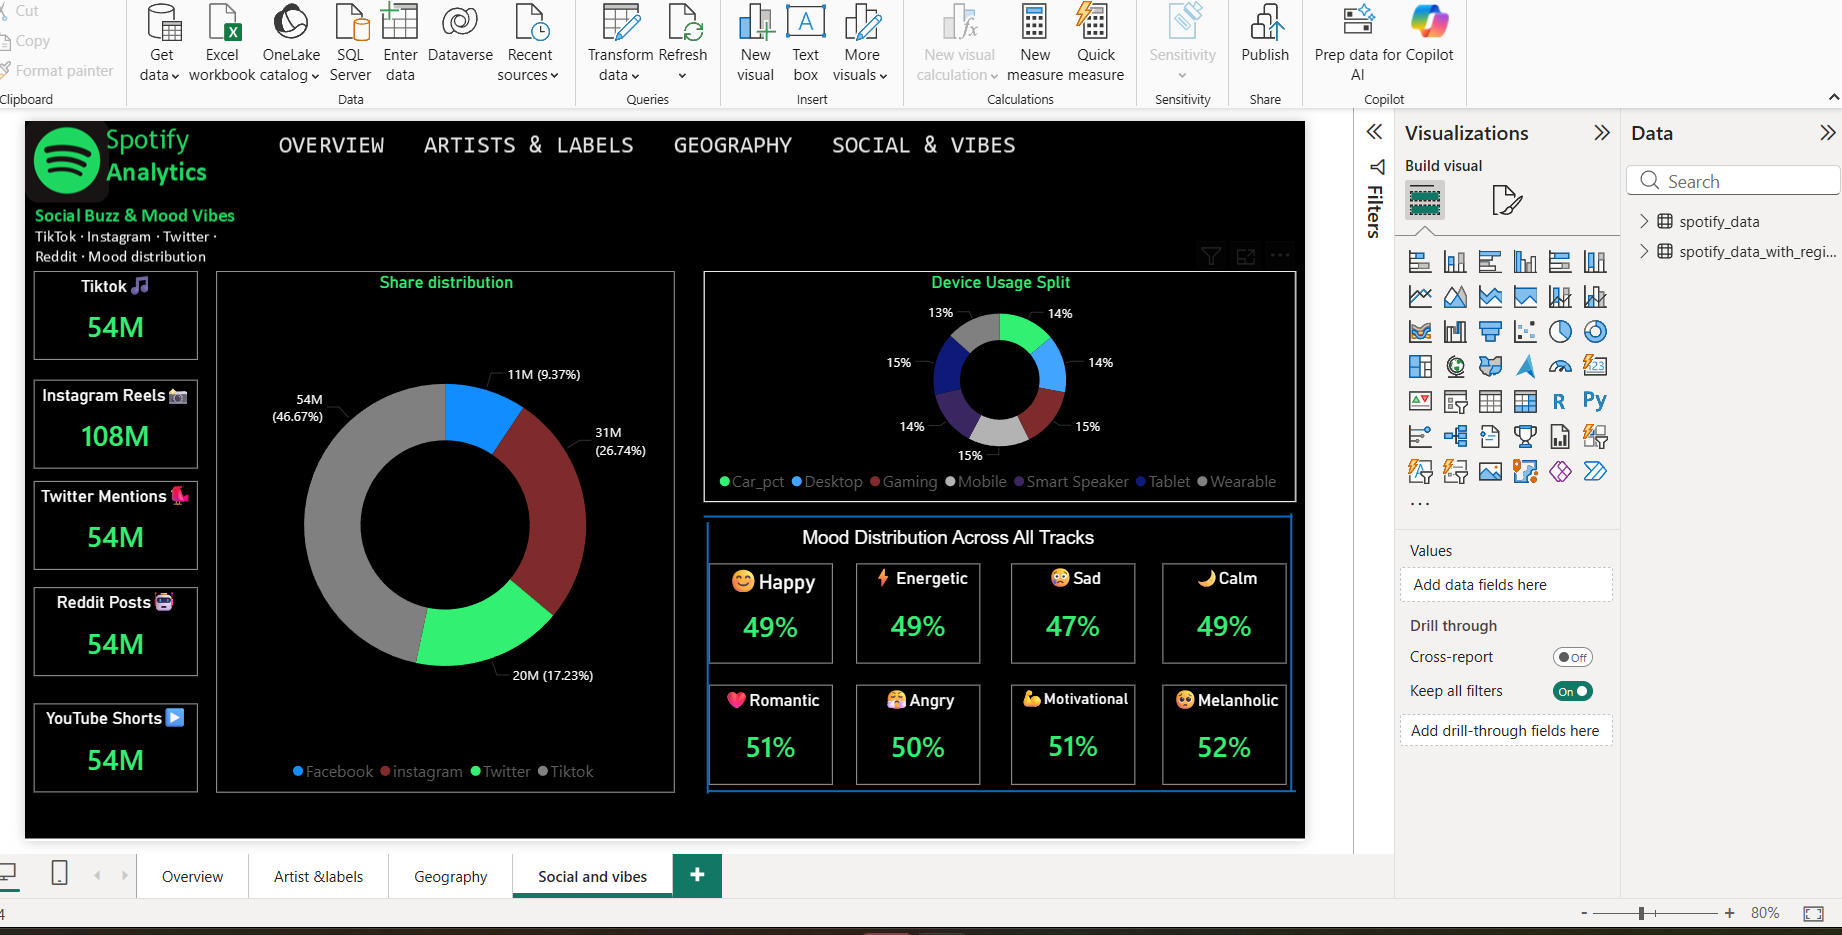

The dashboard page shown, as its layout file describes it:
{"tool":"powerbi","page":{"name":"Social and vibes","canvas":[1280,720],"ordinal":3},"visuals":[{"type":"actionButton","box":[395.2,9.6,218.2,39.8],"z":0},{"type":"actionButton","box":[639.5,9.6,133.1,41.2],"z":1000},{"type":"actionButton","box":[247,9.6,122.1,39.8],"z":2000},{"type":"actionButton","box":[794.5,9.6,222.3,39.8],"z":3000},{"type":"cardVisual","title":"Tiktok🎵","fields":{"Data":["Sum(spotify_data_with_regions.shares_tiktok)"]},"box":[8.6,150,164.3,88.6],"z":4000},{"type":"cardVisual","title":"Instagram Reels📸","fields":{"Data":["Sum(spotify_data.instagram_reels_count)"]},"box":[8.6,258.6,164.3,88.6],"z":5000},{"type":"cardVisual","title":"Twitter Mentions🐦","fields":{"Data":["Sum(spotify_data_with_regions.shares_tiktok)"]},"box":[8.6,360,164.3,88.6],"z":6000},{"type":"cardVisual","title":"Reddit Posts🤖","fields":{"Data":["Sum(spotify_data_with_regions.shares_tiktok)"]},"box":[8.6,465.7,164.3,88.6],"z":7000},{"type":"cardVisual","title":"YouTube Shorts▶️","fields":{"Data":["Sum(spotify_data_with_regions.shares_tiktok)"]},"box":[8.6,582.9,164.3,88.6],"z":8000},{"type":"cardVisual","title":"⚡Energetic","fields":{"Data":["Avg(spotify_data_with_regions.mood_energetic)"]},"box":[831.4,442.9,124.3,100],"z":9000},{"type":"cardVisual","title":"😊Happy","fields":{"Data":["Avg(spotify_data_with_regions.mood_happy)"]},"box":[684.3,442.9,124.3,100],"z":10000},{"type":"cardVisual","title":"😢Sad","fields":{"Data":["Avg(spotify_data_with_regions.mood_sad)"]},"box":[985.7,442.9,124.3,100],"z":11000},{"type":"shape","box":[682.9,664.3,588.6,12.9],"z":12000},{"type":"cardVisual","title":"🌙Calm","fields":{"Data":["Avg(spotify_data_with_regions.mood_calm)"]},"box":[1137.1,442.9,124.3,100],"z":13000},{"type":"cardVisual","title":"❤️Romantic","fields":{"Data":["Avg(spotify_data_with_regions.mood_romantic)"]},"box":[684.3,564.3,124.3,100],"z":14000},{"type":"cardVisual","title":"😤Angry","fields":{"Data":["Avg(spotify_data_with_regions.mood_angry)"]},"box":[831.4,564.3,124.3,100],"z":15000},{"type":"cardVisual","title":"💪Motivational","fields":{"Data":["Avg(spotify_data_with_regions.mood_motivational)"]},"box":[985.7,564.3,124.3,100],"z":16000},{"type":"cardVisual","title":"🥺Melanholic","fields":{"Data":["Avg(spotify_data_with_regions.mood_melancholic)"]},"box":[1137.1,564.3,124.3,100],"z":17000},{"type":"shape","box":[678.6,381.4,588.6,28.6],"z":18000},{"type":"shape","box":[605.7,401.4,152.9,271.4],"z":19000},{"type":"shape","box":[1261.4,392.9,10,278.6],"z":20000},{"type":"textbox","box":[772.9,401.4,347.1,41.4],"z":21000},{"type":"donutChart","title":"Device Usage Split","fields":{"Y":["Sum(spotify_data_with_regions.streams_device_car_pct)","Sum(spotify_data_with_regions.streams_device_desktop_pct)","Sum(spotify_data_with_regions.streams_device_gaming_pct)","Sum(spotify_data_with_regions.streams_device_mobile_pct)","Sum(spotify_data_with_regions.streams_device_smart_speaker_pct)","Sum(spotify_data_with_regions.streams_device_tablet_pct)","Sum(spotify_data_with_regions.streams_device_wearable_pct)"]},"box":[678.6,150,592.9,231.4],"z":22000},{"type":"donutChart","title":"Share distribution","fields":{"Y":["Sum(spotify_data_with_regions.shares_facebook)","Sum(spotify_data_with_regions.shares_instagram)","Sum(spotify_data_with_regions.shares_twitter)","Sum(spotify_data_with_regions.shares_tiktok)"]},"box":[191.4,150,458.6,521.4],"z":23000}]}

Visuals, with their boxes on the page's 1280x720 design canvas (x1, y1, x2, y2). These are canvas units, not pixel positions in the 1842x935 screenshot, which may show the page scaled, cropped or inside an application window:
actionButton: bbox=(395, 10, 613, 49)
actionButton: bbox=(640, 10, 773, 51)
actionButton: bbox=(247, 10, 369, 49)
actionButton: bbox=(794, 10, 1017, 49)
"Tiktok🎵" cardVisual: bbox=(9, 150, 173, 239)
"Instagram Reels📸" cardVisual: bbox=(9, 259, 173, 347)
"Twitter Mentions🐦" cardVisual: bbox=(9, 360, 173, 449)
"Reddit Posts🤖" cardVisual: bbox=(9, 466, 173, 554)
"YouTube Shorts▶️" cardVisual: bbox=(9, 583, 173, 672)
"⚡Energetic" cardVisual: bbox=(831, 443, 956, 543)
"😊Happy" cardVisual: bbox=(684, 443, 809, 543)
"😢Sad" cardVisual: bbox=(986, 443, 1110, 543)
shape: bbox=(683, 664, 1272, 677)
"🌙Calm" cardVisual: bbox=(1137, 443, 1261, 543)
"❤️Romantic" cardVisual: bbox=(684, 564, 809, 664)
"😤Angry" cardVisual: bbox=(831, 564, 956, 664)
"💪Motivational" cardVisual: bbox=(986, 564, 1110, 664)
"🥺Melanholic" cardVisual: bbox=(1137, 564, 1261, 664)
shape: bbox=(679, 381, 1267, 410)
shape: bbox=(606, 401, 759, 673)
shape: bbox=(1261, 393, 1271, 672)
textbox: bbox=(773, 401, 1120, 443)
"Device Usage Split" donutChart: bbox=(679, 150, 1272, 381)
"Share distribution" donutChart: bbox=(191, 150, 650, 671)
